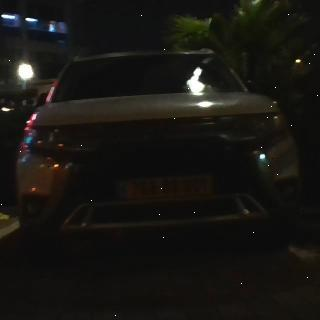LicensePlate: (126, 176, 212, 198)
